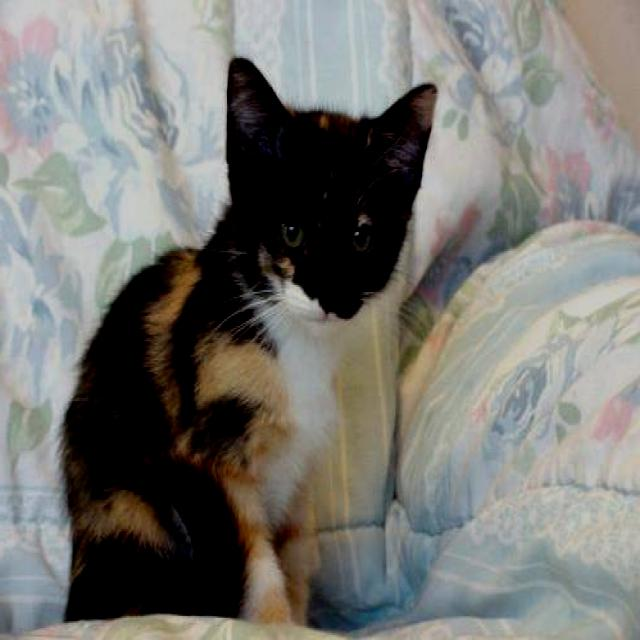Kucing: (33, 58, 466, 621)
